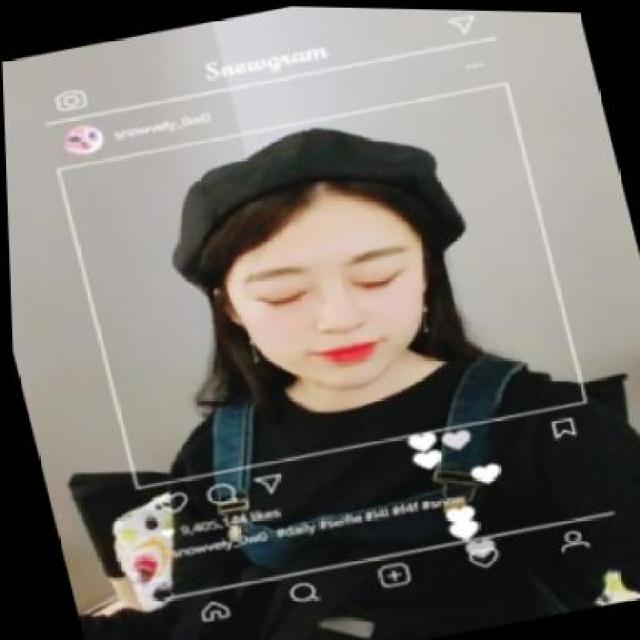hat: (133, 95, 482, 307)
